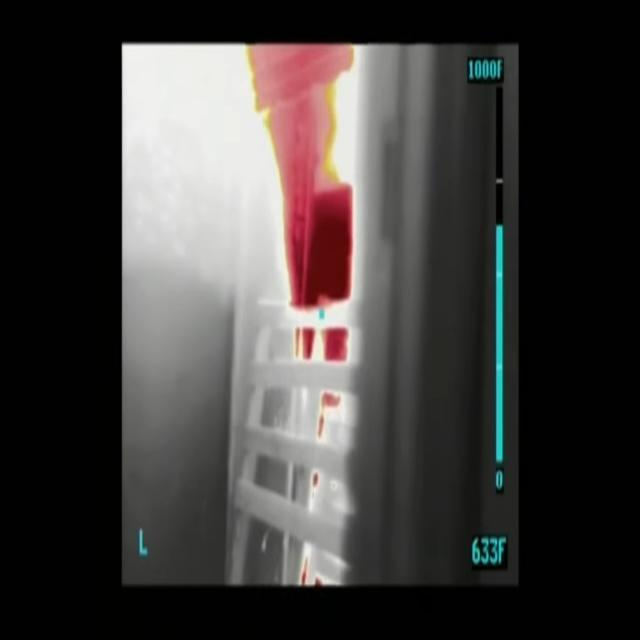fire: (248, 49, 363, 363)
